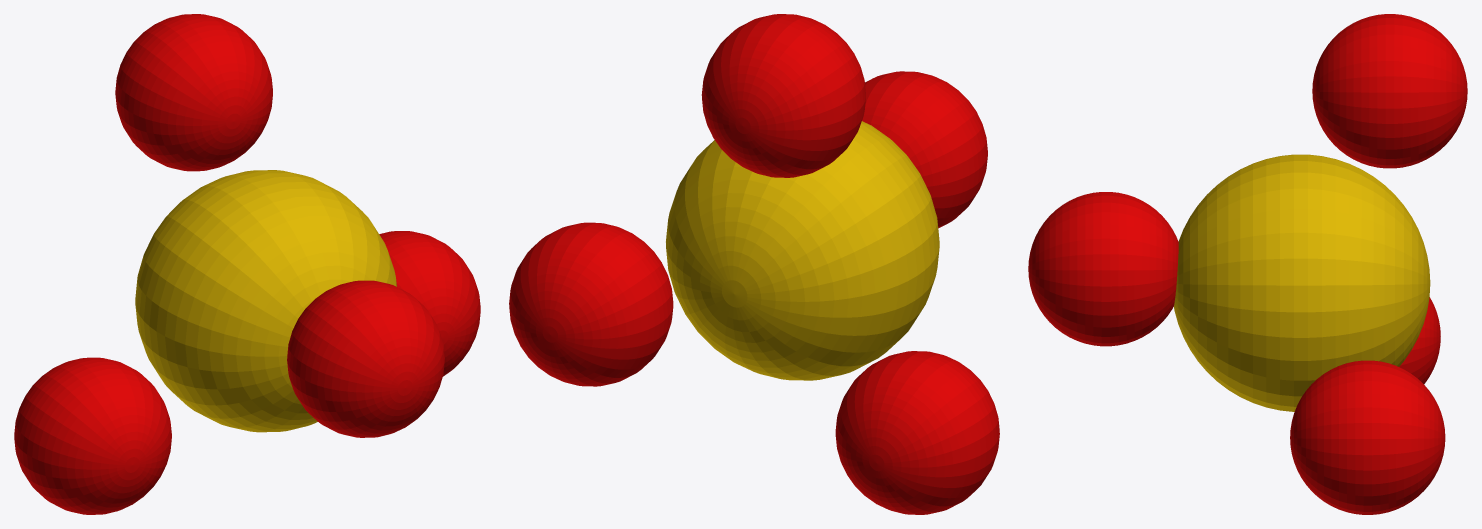
Rendered from Calcium Phosphate.glb.
The picture shows the model from 3 angles, left to right: view 1: azimuth 30°, elevation 25°; view 2: azimuth 150°, elevation 25°; view 3: azimuth 270°, elevation 25°; orthographic projection. The views are drawn at different scales.
Parts seen in each view (by area): view 1: world; view 2: world; view 3: world.
Part boxes in pixels (x1,y1,x2,y2): world: (14,14,480,514); world: (509,14,999,514); world: (1028,14,1467,514).
Size of the model in its own units: 3.93 by 3.75 by 3.39.
